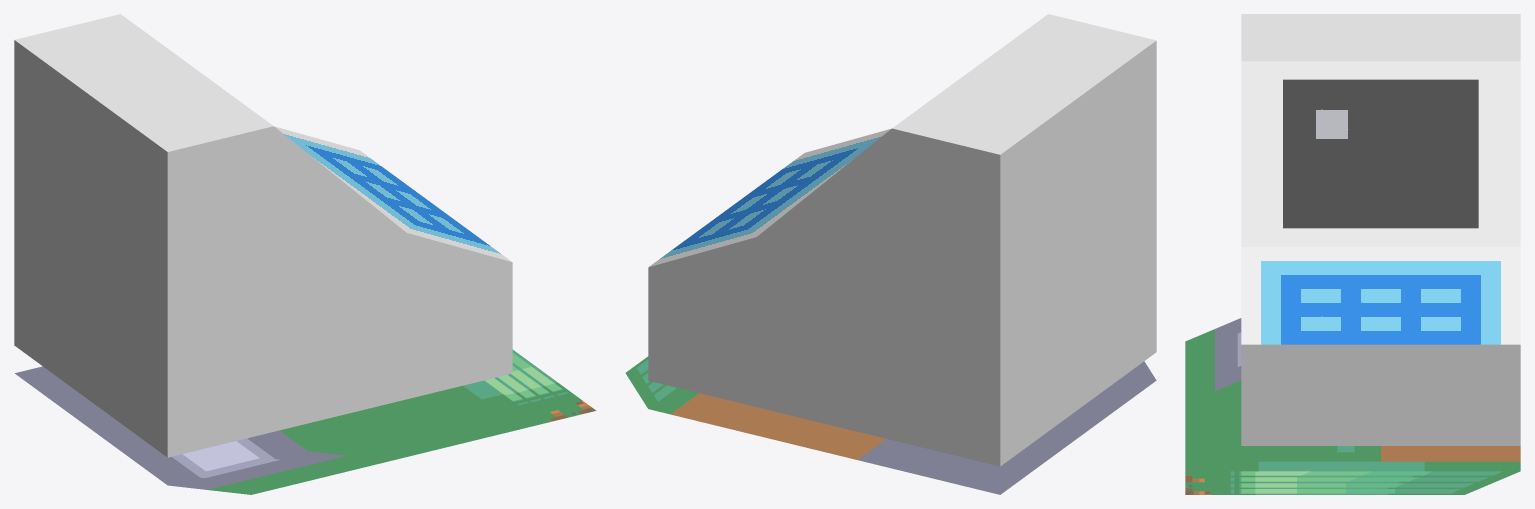
Rendered from Cash Register 2.obj.
The picture shows the model from 3 angles, left to right: view 1: azimuth 30°, elevation 25°; view 2: azimuth 150°, elevation 25°; view 3: azimuth 270°, elevation 25°; orthographic projection. The views are drawn at different scales.
Visible parts, largest first — view 1: polygon1, polygon0; view 2: polygon1, polygon0; view 3: polygon1, polygon0.
Part boxes in pixels (bbox=[...]): polygon1: bbox=[14, 14, 512, 457]; polygon0: bbox=[15, 349, 596, 494]; polygon1: bbox=[648, 14, 1156, 466]; polygon0: bbox=[625, 356, 1156, 494]; polygon1: bbox=[1241, 14, 1520, 445]; polygon0: bbox=[1185, 318, 1520, 494].
Size of the model in its own units: 15 by 12 by 12.
